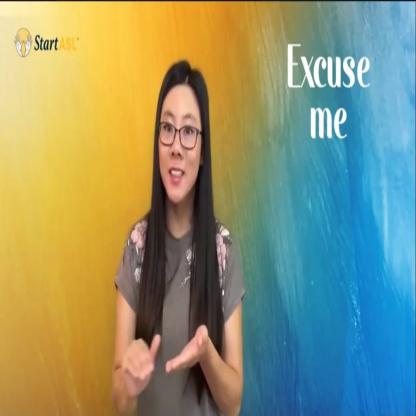ExcuseMe: (118, 310, 210, 406)
